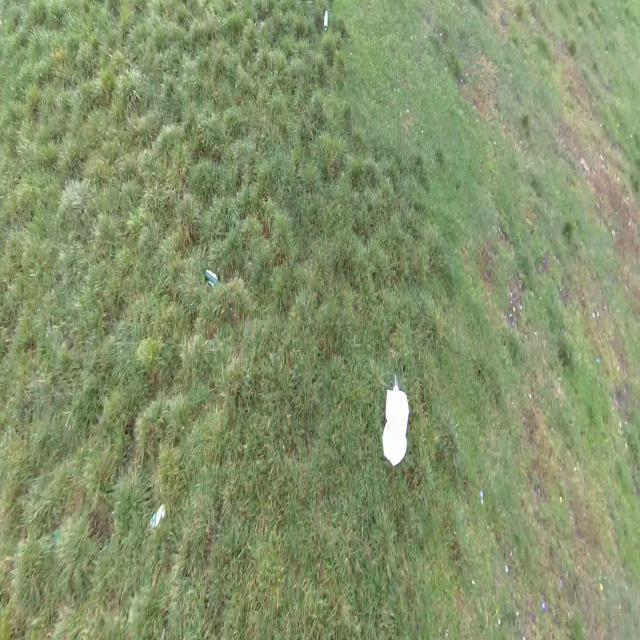rubbish: (380, 386, 409, 463), (204, 265, 225, 293), (150, 501, 165, 528), (323, 9, 328, 32)
